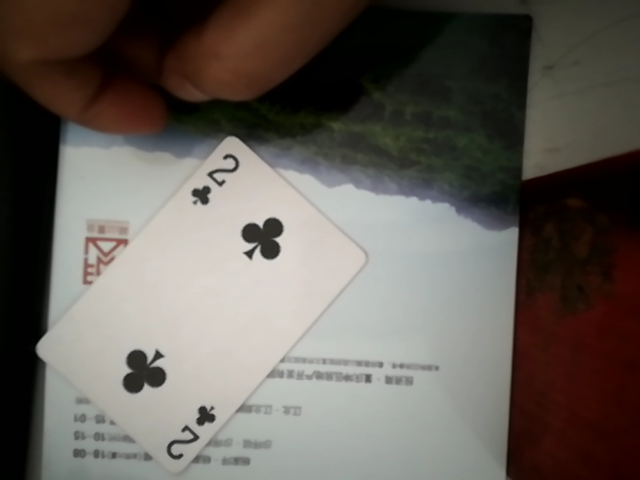mh 2: (55, 130, 360, 465)
